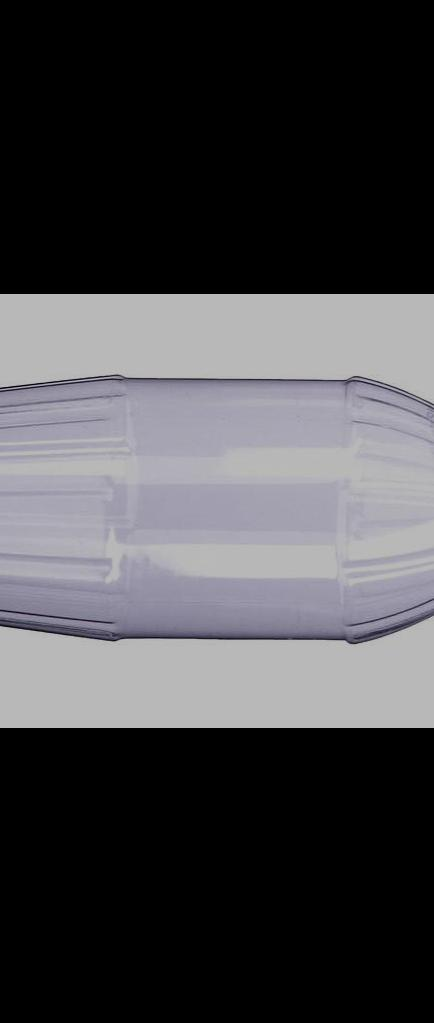bottle: (0, 347, 434, 651)
